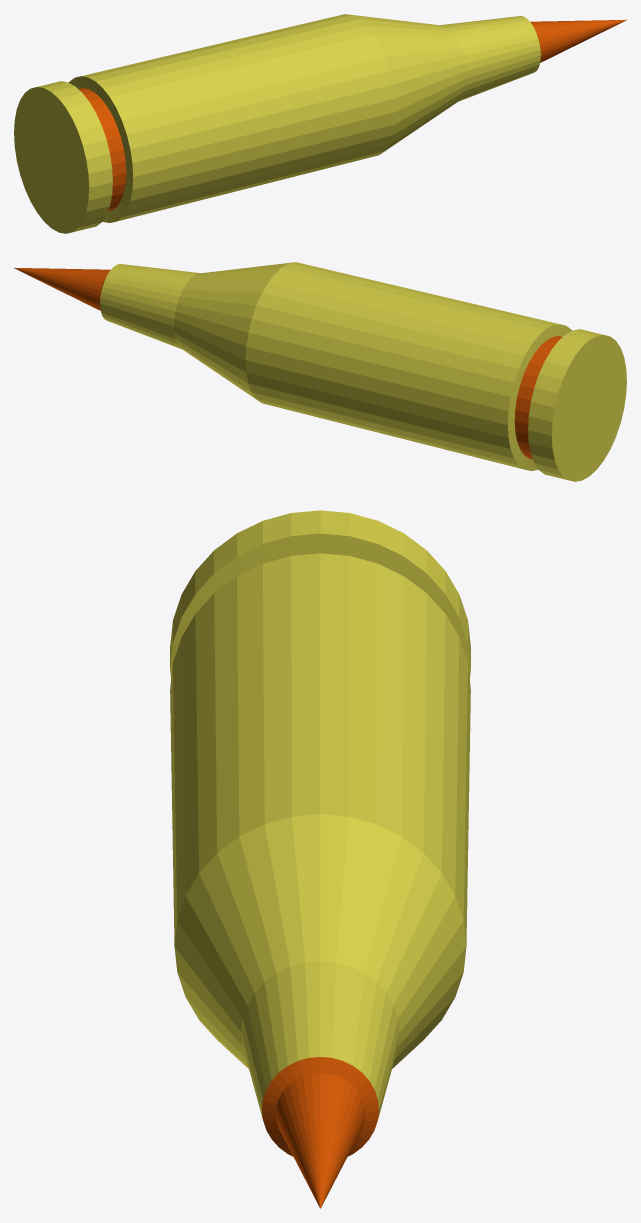
The model's file is bullet1.fbx.
3 views of the same model, one above another, from view 1: azimuth 30°, elevation 25°; view 2: azimuth 150°, elevation 25°; view 3: azimuth 270°, elevation 25° (orthographic). The views are drawn at different scales.
Visible parts, largest first — view 1: Cylinder; view 2: Cylinder; view 3: Cylinder.
Part boxes in pixels (x1,y1,x2,y2): Cylinder: (14, 14, 626, 233); Cylinder: (14, 262, 626, 481); Cylinder: (170, 510, 470, 1208).
Bounding box in the file's own units: 883 × 200 × 200.
